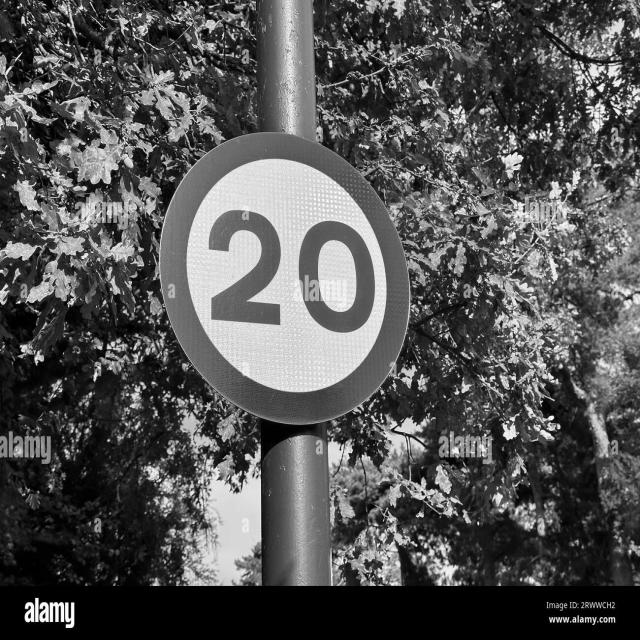speed_20: (155, 126, 414, 429)
